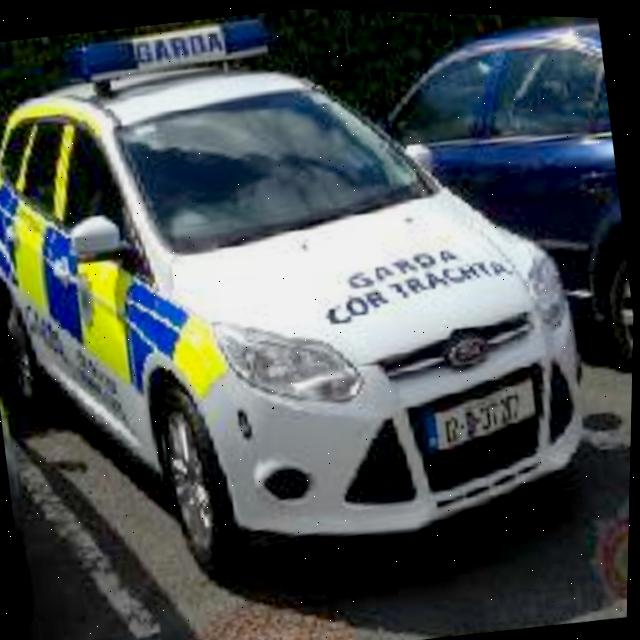emergency: (0, 0, 624, 613)
